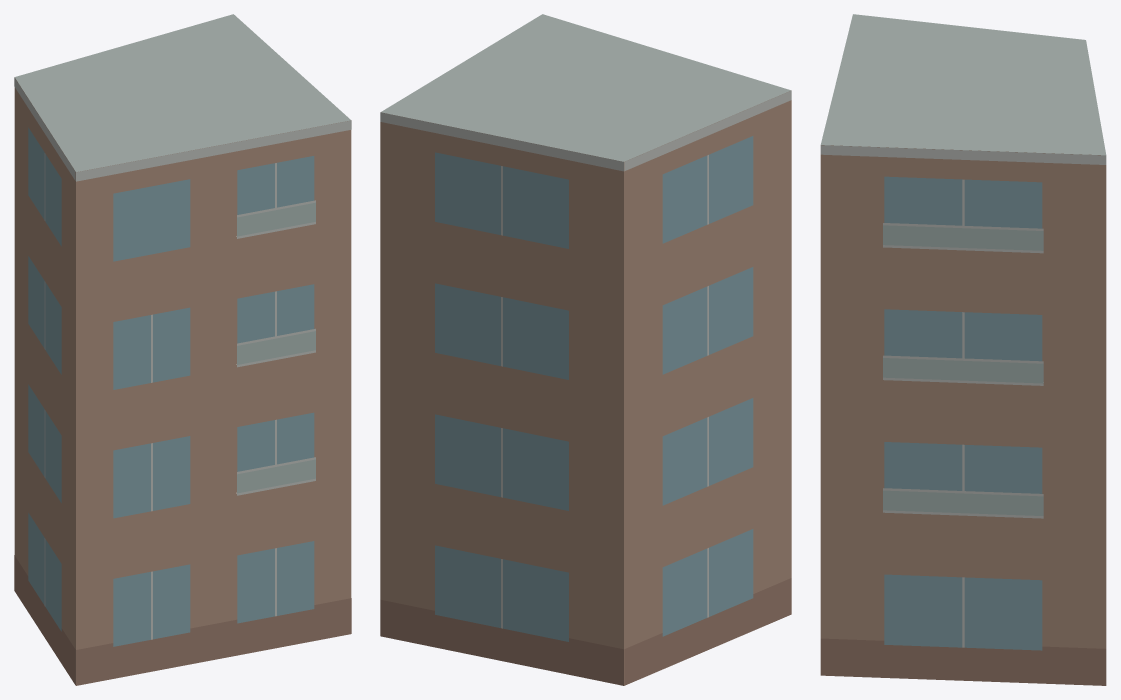
The model's file is survey-upis-32897559.glb.
The picture shows the model from 3 angles, left to right: view 1: azimuth 30°, elevation 25°; view 2: azimuth 150°, elevation 25°; view 3: azimuth 270°, elevation 25°; orthographic projection. The views are drawn at different scales.
Parts seen in each view (by area): view 1: survey-upis-32897559.tmp; view 2: survey-upis-32897559.tmp; view 3: survey-upis-32897559.tmp.
Boxes of the visible parts, x1,y1,x2,y2 form: survey-upis-32897559.tmp: [14, 14, 351, 685]; survey-upis-32897559.tmp: [380, 14, 791, 685]; survey-upis-32897559.tmp: [820, 14, 1106, 685].
Size of the model in its own units: 7.58 by 13.25 by 6.48.
